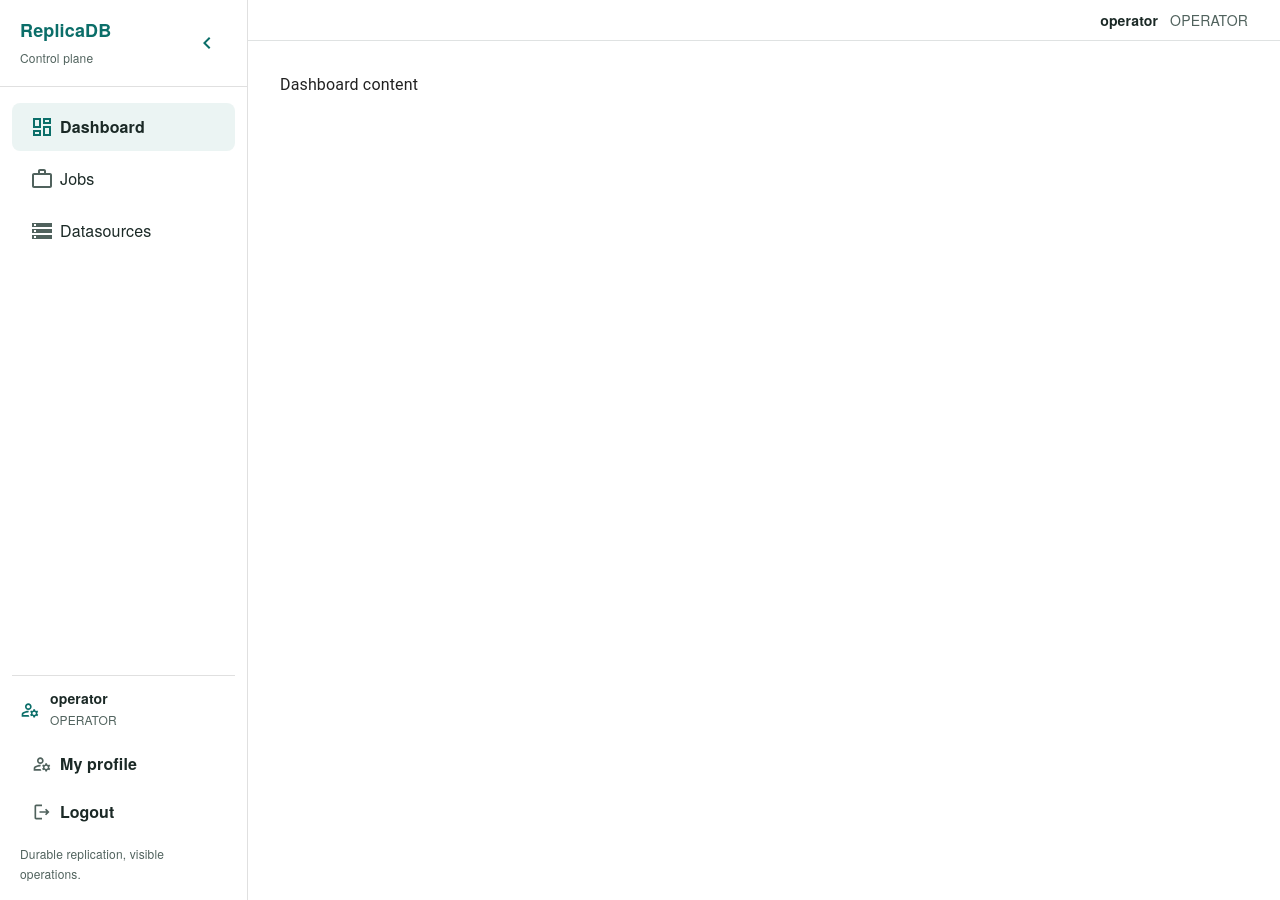
Test: AppLayout › collapses the desktop navigation to icon-only links
Click the button named "Collapse navigation". click: click(207, 43)
box: x1=187 y1=23 x2=227 y2=63
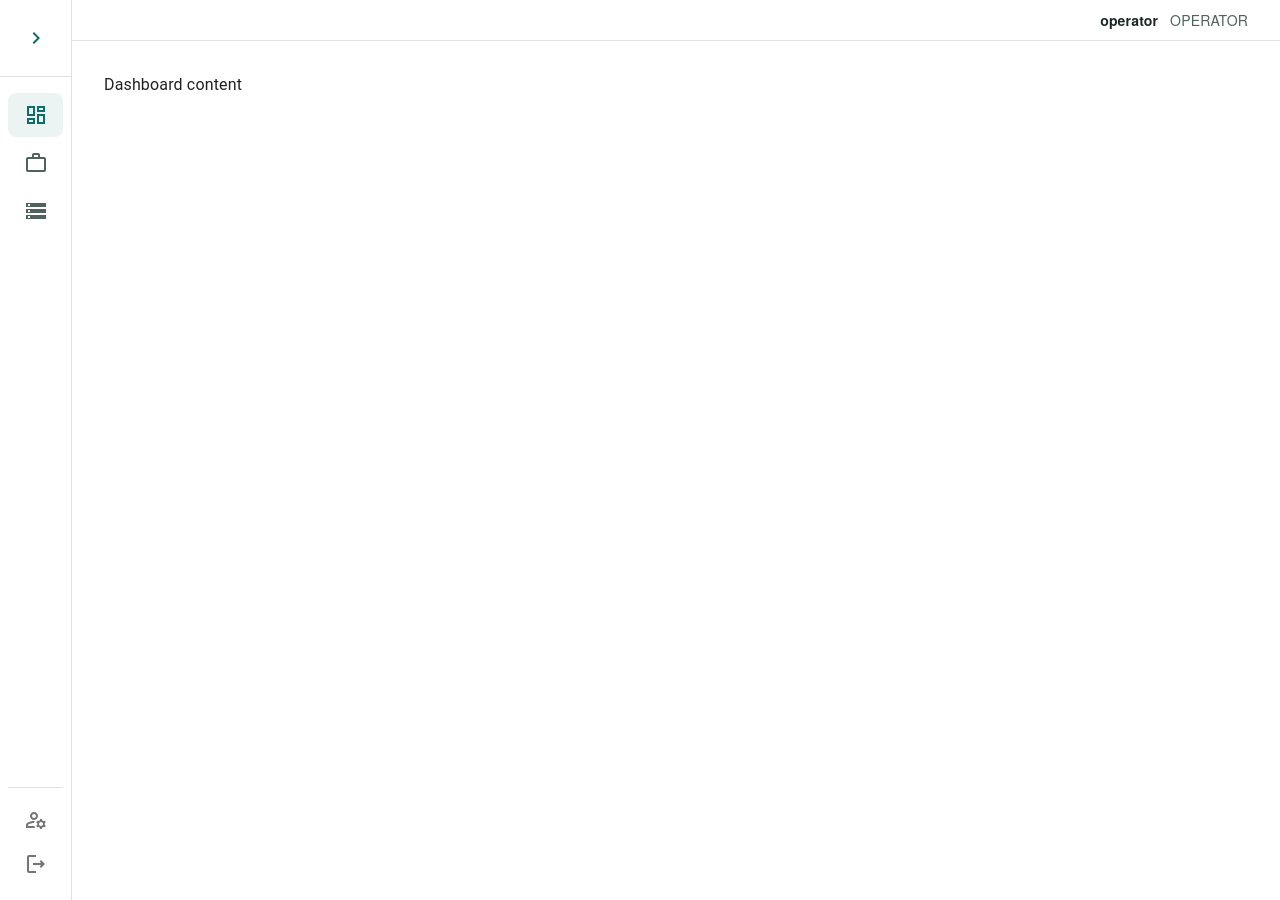
Result: the button named "Expand navigation" is shown
Result: the text "Control plane" is gone
Click the button named "Expand navigation". click: click(36, 38)
box: x1=16 y1=18 x2=56 y2=58
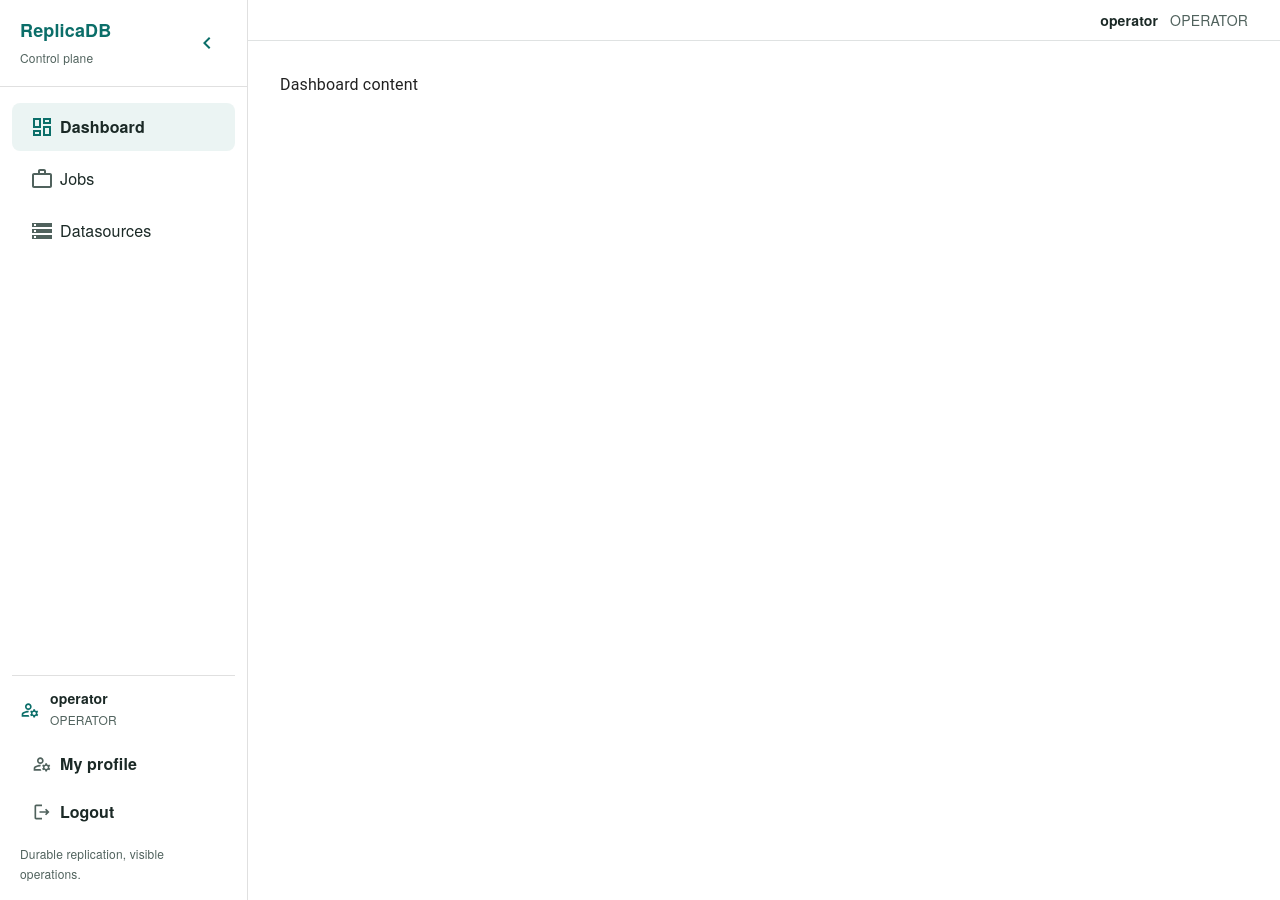
Result: the text "Control plane" is shown at x1=20 y1=49 x2=93 y2=66
